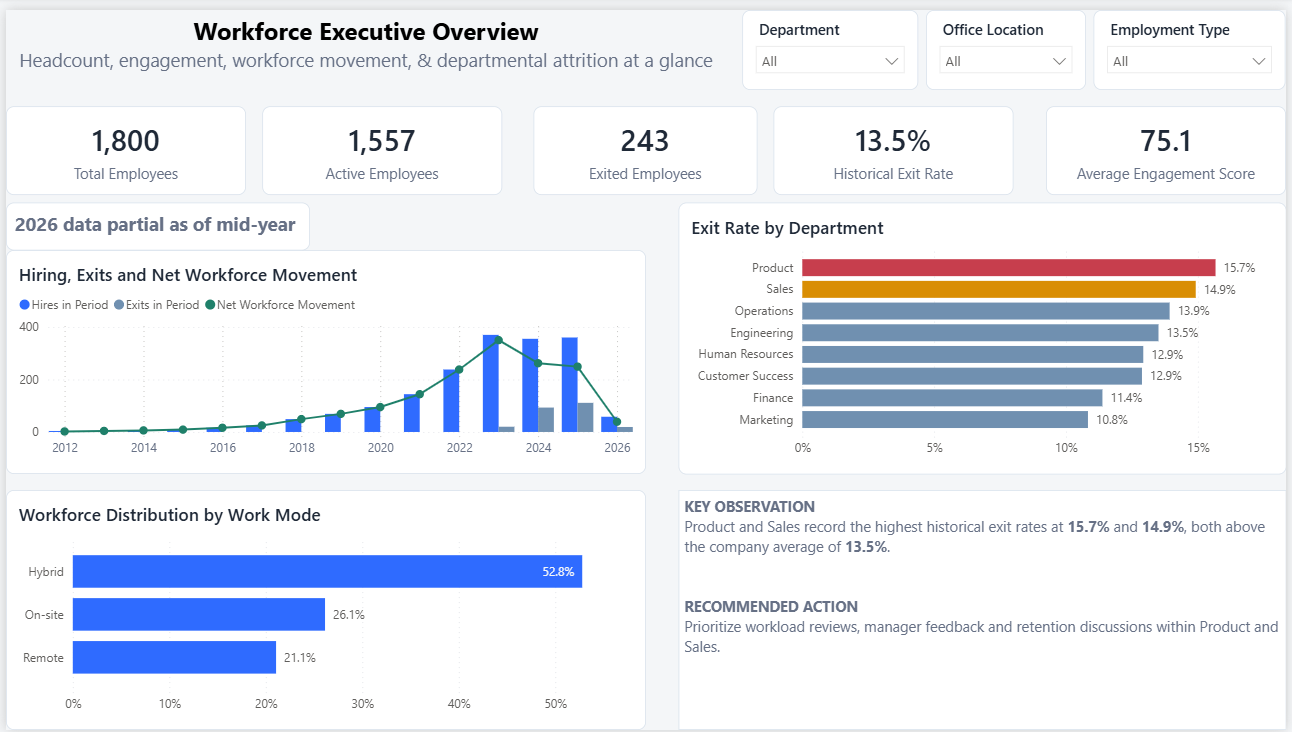

What the dashboard file says about the page in this screenshot:
{"tool":"powerbi","page":{"name":"Executive Workforce Overview","canvas":[1280,720],"ordinal":0},"visuals":[{"type":"card","fields":{"Values":["_Measures.Total Employees"]},"box":[0,96,240,89],"z":0},{"type":"card","fields":{"Values":["_Measures.Active Employees"]},"box":[256,96,240,89],"z":1000},{"type":"card","fields":{"Values":["_Measures.Exited Employees"]},"box":[528,96,224,89],"z":2000},{"type":"card","fields":{"Values":["_Measures.Historical Exit Rate"]},"box":[768,96,240,89],"z":3000},{"type":"card","fields":{"Values":["_Measures.Average Engagement Score"]},"box":[1040,96,240,89],"z":4000},{"type":"lineClusteredColumnComboChart","title":"Hiring, Exits and Net Workforce Movement","fields":{"Category":["Date.Year"],"Y":["_Measures.Hires in Period","_Measures.Exits in Period"],"Y2":["_Measures.Net Workforce Movement"]},"box":[0,240,640,224],"z":5000},{"type":"barChart","title":"Exit Rate by Department","fields":{"Category":["Workforce.Department"],"Y":["_Measures.Historical Exit Rate"]},"box":[672,192,608,272],"z":6000},{"type":"barChart","title":"Workforce Distribution by Work Mode","fields":{"Y":["_Measures.Active Employees"],"Category":["Workforce.WorkMode"]},"box":[0,480,640,240],"z":7000},{"type":"textbox","box":[672,480,608,240],"z":8000},{"type":"textbox","box":[0,192,304,48],"z":9000},{"type":"textbox","box":[0,0,720,80],"z":10000},{"type":"slicer","fields":{"Values":["Workforce.Department"]},"box":[736,0,176,80],"z":11000},{"type":"slicer","fields":{"Values":["Workforce.OfficeLocation"]},"box":[920,0,160,80],"z":12000},{"type":"slicer","fields":{"Values":["Workforce.EmploymentType"]},"box":[1088,0,192,80],"z":13000}]}

Visuals, with their boxes in screenshot pixels (x1, y1, x2, y2), scaled from the page's 1280x720 canvas onto the 1292x732 screenshot:
card - _Measures.Total Employees: rect(0, 98, 242, 188)
card - _Measures.Active Employees: rect(258, 98, 501, 188)
card - _Measures.Exited Employees: rect(533, 98, 759, 188)
card - _Measures.Historical Exit Rate: rect(775, 98, 1017, 188)
card - _Measures.Average Engagement Score: rect(1050, 98, 1291, 188)
"Hiring, Exits and Net Workforce Movement" lineClusteredColumnComboChart: rect(0, 244, 646, 472)
"Exit Rate by Department" barChart: rect(678, 195, 1291, 472)
"Workforce Distribution by Work Mode" barChart: rect(0, 488, 646, 731)
textbox: rect(678, 488, 1291, 731)
textbox: rect(0, 195, 307, 244)
textbox: rect(0, 0, 727, 81)
slicer - Workforce.Department: rect(743, 0, 921, 81)
slicer - Workforce.OfficeLocation: rect(929, 0, 1090, 81)
slicer - Workforce.EmploymentType: rect(1098, 0, 1291, 81)
